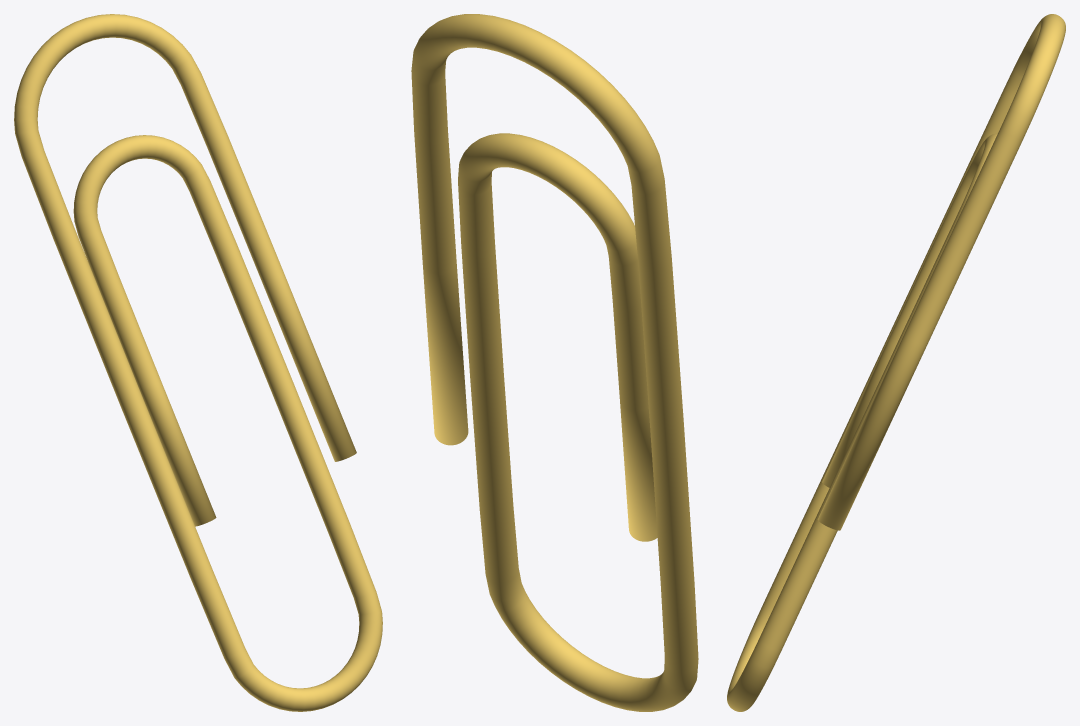
3 renders of one model, left to right at view 1: azimuth 30°, elevation 25°; view 2: azimuth 150°, elevation 25°; view 3: azimuth 270°, elevation 25°, orthographic. The views are drawn at different scales.
Visible parts, largest first — view 1: Cylinder.011; view 2: Cylinder.011; view 3: Cylinder.011.
Boxes of the visible parts, x1,y1,x2,y2 form: Cylinder.011: (14, 14, 382, 711); Cylinder.011: (411, 14, 698, 711); Cylinder.011: (727, 14, 1065, 711).
Size of the model in its own units: 0.2146 by 0.5 by 0.2392.
